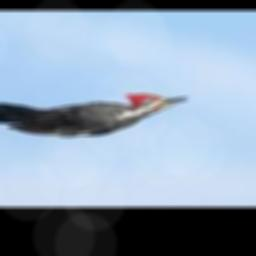Woodpecker: (0, 93, 186, 135)
